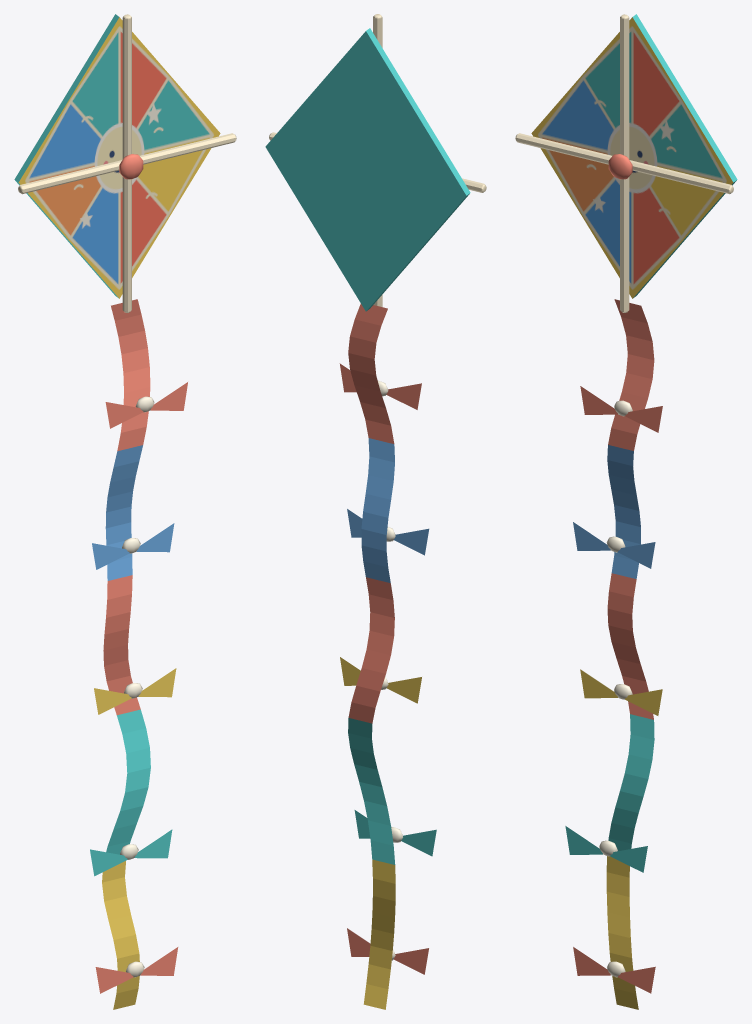
The model's file is asset.glb.
3 views of the same model, side by side, from view 1: azimuth 30°, elevation 25°; view 2: azimuth 150°, elevation 25°; view 3: azimuth 330°, elevation 25° (orthographic).
Parts seen in each view (by area): view 1: Diamond sail, Tail color panel 00, Tail color panel 03, Tail color panel 02, Tail color panel 04, Tail color panel 01, Long rounded center spar, Rounded cross spar, Ribbon bow right 3, Ribbon bow left 4, Ribbon bow left 0, Ribbon bow left 3 (+6 smaller); view 2: Diamond sail, Tail color panel 01, Tail color panel 02, Tail color panel 00, Tail color panel 04, Tail color panel 03, Ribbon bow left 3, Ribbon bow left 2, Ribbon bow left 0, Ribbon bow left 1, Ribbon bow left 4; view 3: Diamond sail, Tail color panel 00, Tail color panel 03, Tail color panel 02, Tail color panel 04, Tail color panel 01, Long rounded center spar, Rounded cross spar, Ribbon bow right 1, Ribbon bow left 2, Ribbon bow right 2, Ribbon bow right 4 (+6 smaller).
Boxes of the visible parts, left/top/right/bottom form: Diamond sail: left=14, top=14, right=220, bottom=298; Tail color panel 00: left=111, top=299, right=150, bottom=451; Tail color panel 03: left=106, top=709, right=150, bottom=854; Tail color panel 02: left=103, top=575, right=140, bottom=715; Tail color panel 04: left=102, top=861, right=139, bottom=1009; Tail color panel 01: left=105, top=445, right=142, bottom=580; Long rounded center spar: left=122, top=14, right=131, bottom=312; Rounded cross spar: left=18, top=133, right=236, bottom=194; Ribbon bow right 3: left=134, top=829, right=172, bottom=858; Ribbon bow left 4: left=95, top=967, right=133, bottom=993; Ribbon bow left 0: left=105, top=402, right=143, bottom=428; Ribbon bow left 3: left=90, top=849, right=127, bottom=876; Diamond sail: left=265, top=28, right=470, bottom=311; Tail color panel 01: left=361, top=438, right=394, bottom=582; Tail color panel 02: left=348, top=577, right=394, bottom=723; Tail color panel 00: left=348, top=303, right=394, bottom=443; Tail color panel 04: left=363, top=859, right=395, bottom=1009; Tail color panel 03: left=348, top=718, right=395, bottom=864; Ribbon bow left 3: left=401, top=829, right=436, bottom=856; Ribbon bow left 2: left=387, top=677, right=421, bottom=703; Ribbon bow left 0: left=386, top=383, right=421, bottom=409; Ribbon bow left 1: left=394, top=528, right=429, bottom=555; Ribbon bow left 4: left=393, top=948, right=428, bottom=974; Diamond sail: left=531, top=14, right=737, bottom=298; Tail color panel 00: left=608, top=299, right=654, bottom=450; Tail color panel 03: left=608, top=714, right=654, bottom=851; Tail color panel 02: left=607, top=573, right=653, bottom=719; Tail color panel 04: left=606, top=856, right=638, bottom=1009; Tail color panel 01: left=607, top=445, right=640, bottom=578; Long rounded center spar: left=620, top=14, right=629, bottom=312; Rounded cross spar: left=515, top=133, right=733, bottom=194; Ribbon bow right 1: left=618, top=542, right=655, bottom=568; Ribbon bow left 2: left=580, top=669, right=617, bottom=698; Ribbon bow right 2: left=625, top=689, right=662, bottom=715; Ribbon bow right 4: left=618, top=966, right=655, bottom=993.
Bounding box in the file's own units: 0.48 × 2.11 × 0.0942.
7 materials, 1 textured.
